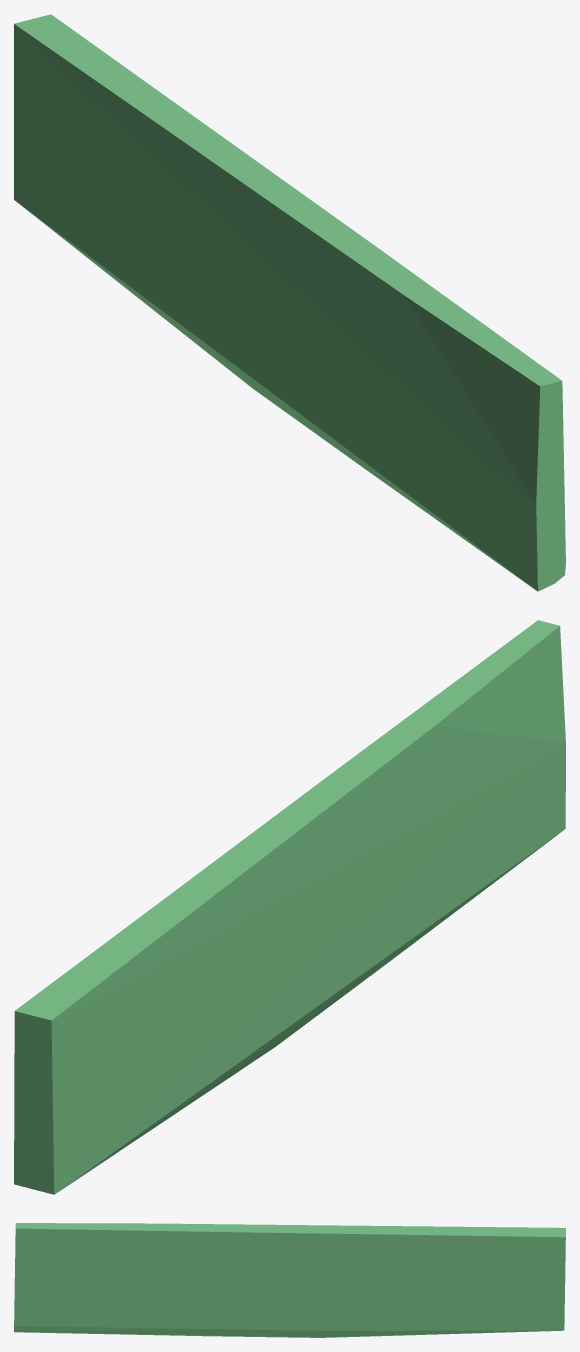
The model's file is converted_Downdraft_Assy_collision_27_7cc98cff.obj.
3 renders of one model, top to bottom at view 1: azimuth 30°, elevation 25°; view 2: azimuth 150°, elevation 25°; view 3: azimuth 270°, elevation 25°, orthographic. The views are drawn at different scales.
Size of the model in its own units: 0.033 by 0.1654 by 0.7351.
